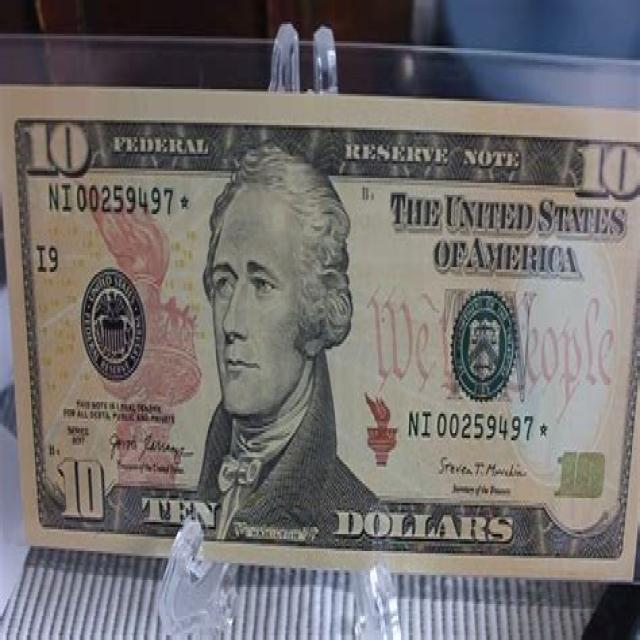Ten: (0, 84, 640, 582)
